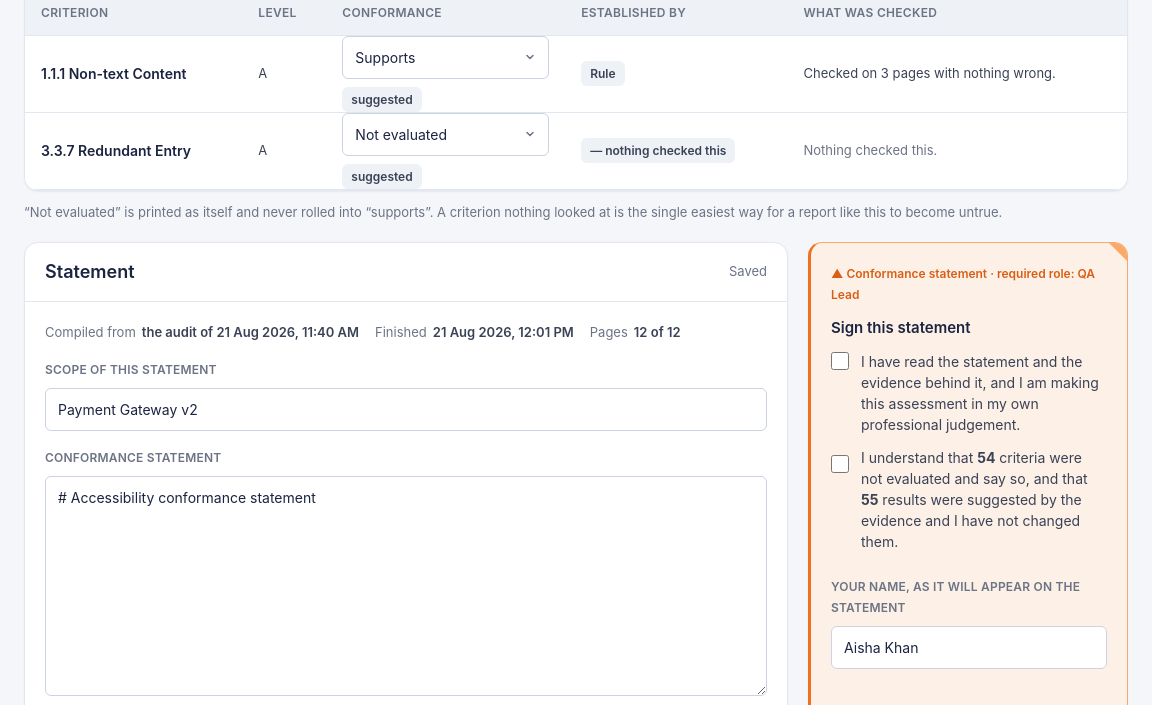
Test case: S-37 conformance statement › will not let anyone sign until they say what they are signing for
(page scrolled)
Check: the text "criteria were not" is shown, box [861,449,1088,487]
What coordinates should you click on to do the following:
click the 1st checkbox
I would click on:
 (840, 361)
Its box is [831,352,849,370].
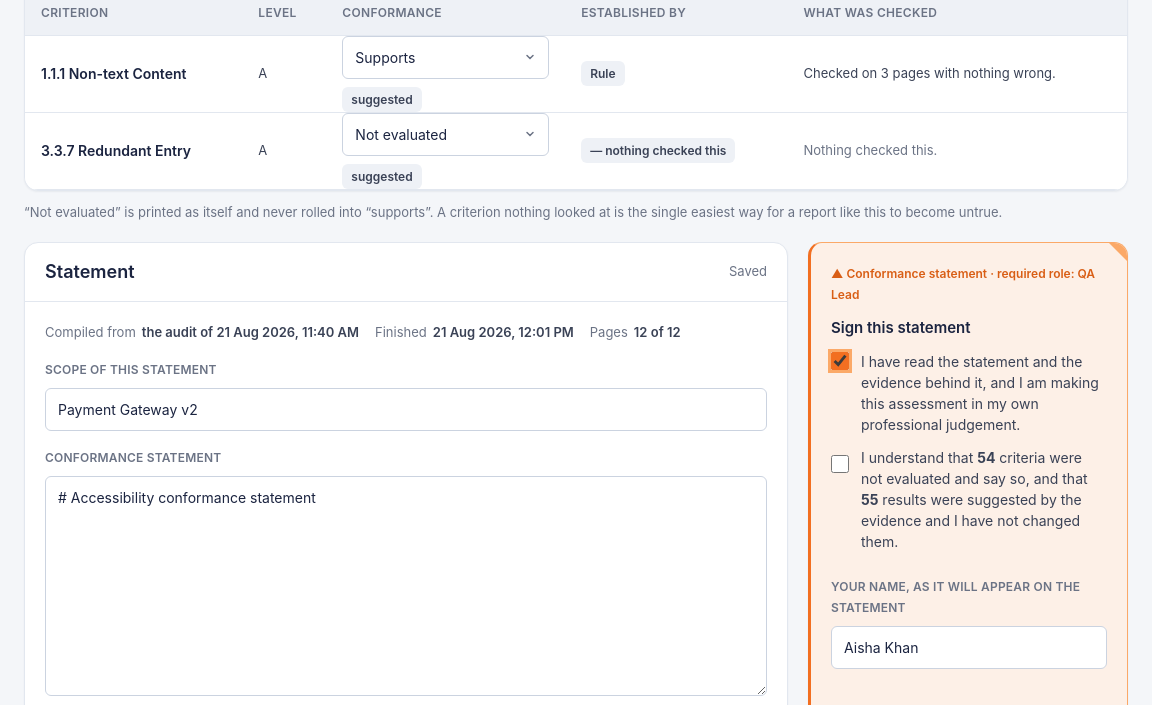
What coordinates should you click on to do the following:
click the 2nd checkbox
I would click on:
 (840, 464)
Its box is [831,455,849,473].
(page scrolled)
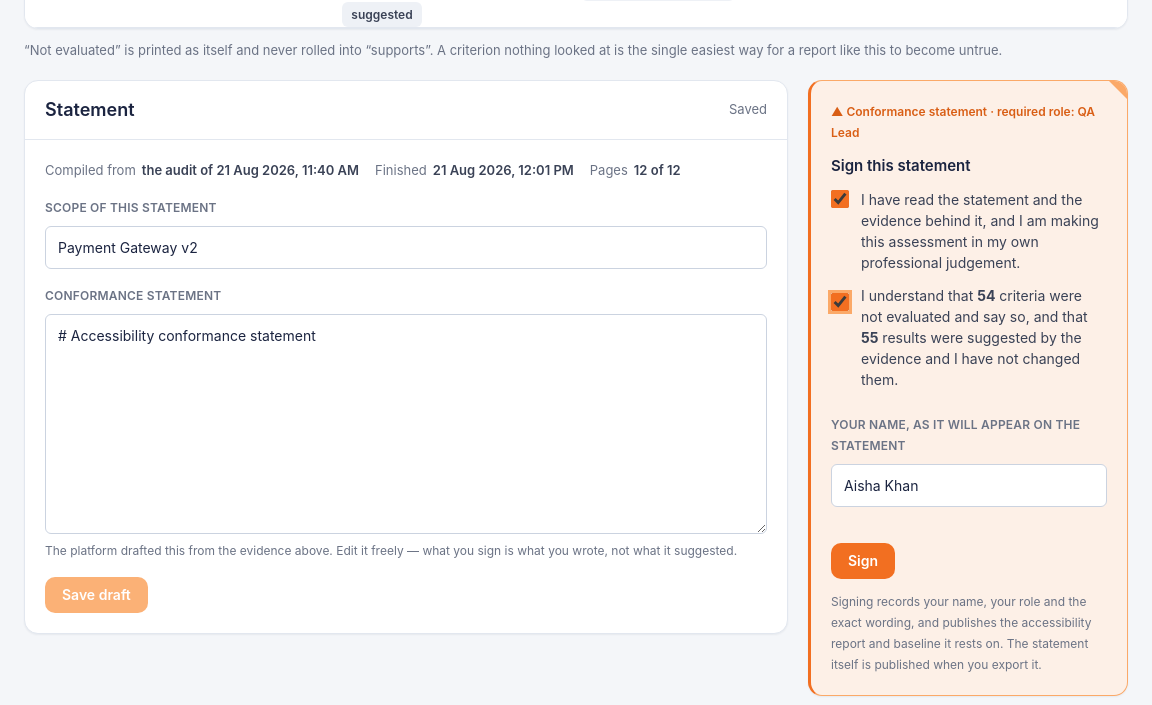
Check: the button "Sign" is enabled, box [831,543,895,579]
